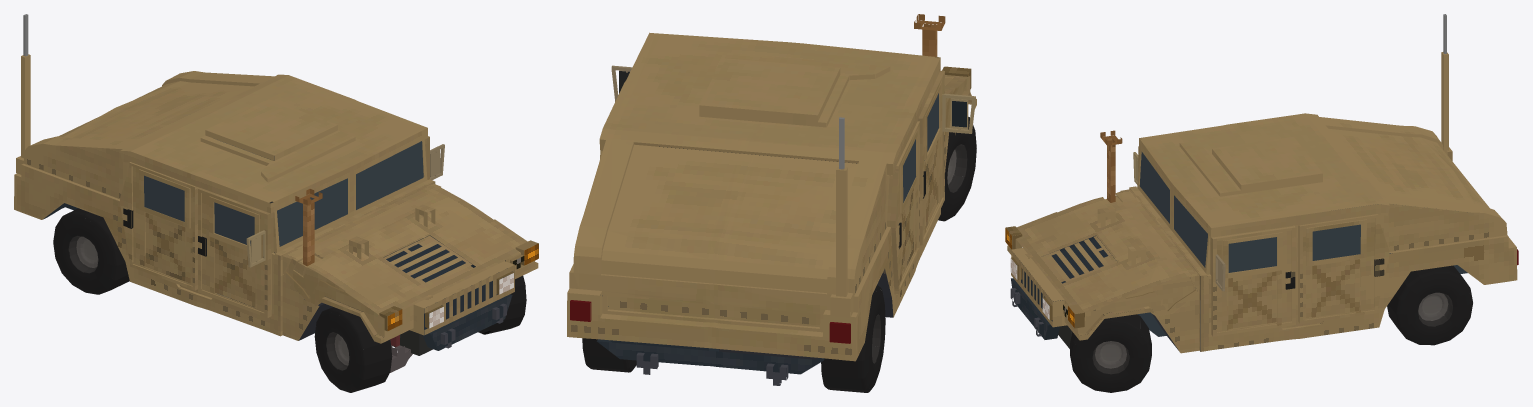
File: humvee.glb
3 renders of one model, left to right at view 1: azimuth 30°, elevation 25°; view 2: azimuth 150°, elevation 25°; view 3: azimuth 270°, elevation 25°, orthographic. The views are drawn at different scales.
Visible parts, largest first — view 1: cuboid.020, cuboid.002, cuboid.001, cuboid.003; view 2: cuboid.020, cuboid.001, cuboid.002, cuboid.004; view 3: cuboid.020, cuboid.004, cuboid.003.
Part boxes in pixels (x1,y1,x2,y2): cuboid.020: (14, 14, 538, 372); cuboid.002: (314, 306, 392, 392); cuboid.001: (53, 208, 129, 294); cuboid.003: (478, 260, 526, 334); cuboid.020: (567, 14, 976, 385); cuboid.001: (821, 285, 885, 392); cuboid.002: (938, 117, 976, 221); cuboid.004: (582, 338, 636, 372); cuboid.020: (1005, 14, 1518, 353); cuboid.004: (1387, 265, 1472, 345); cuboid.003: (1070, 310, 1151, 392).
Size of what is drawn, in the model's own units: 1.74 by 1.28 by 2.48.
Materials: 7 (7 with a texture image).
